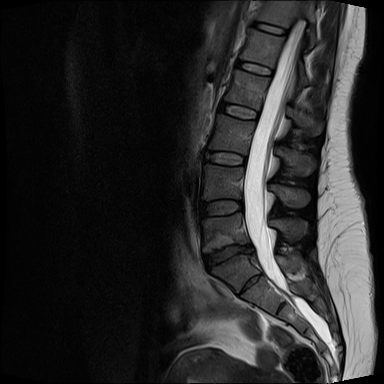Lumbar Disc Bulge (LDB): (200, 240, 256, 273)
Normal IVD: (196, 196, 248, 223), (201, 144, 250, 170), (216, 99, 262, 124), (234, 57, 276, 80), (248, 20, 290, 38)
Spinal Stenosis (SS): (242, 238, 257, 259)
